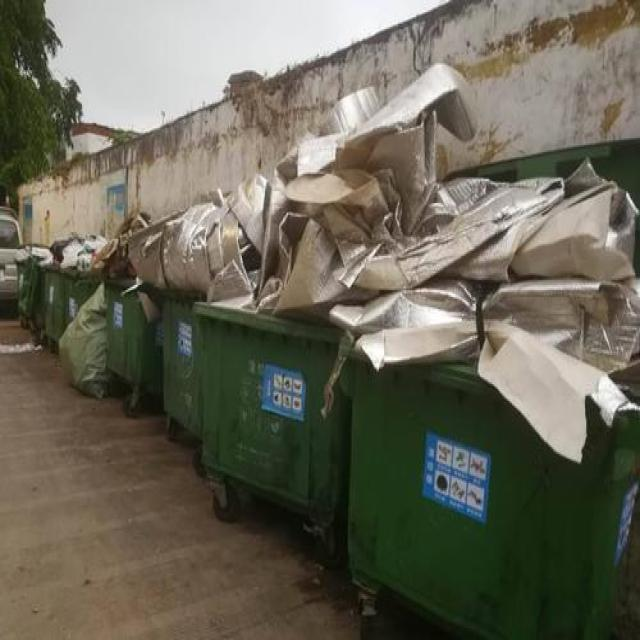garbage: (58, 285, 102, 399)
overflow: (343, 61, 639, 638), (189, 87, 338, 522), (102, 203, 162, 394), (162, 196, 202, 442), (44, 230, 104, 340), (16, 241, 52, 324)
